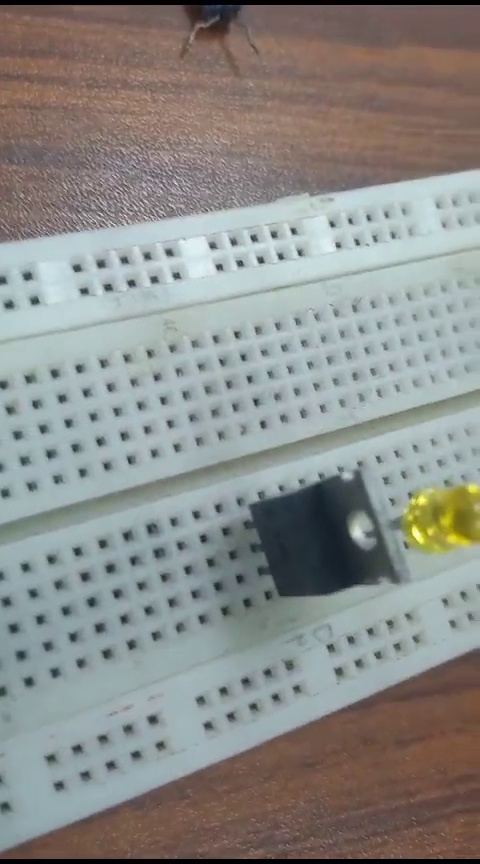voltage regulator: (234, 472, 411, 607)
